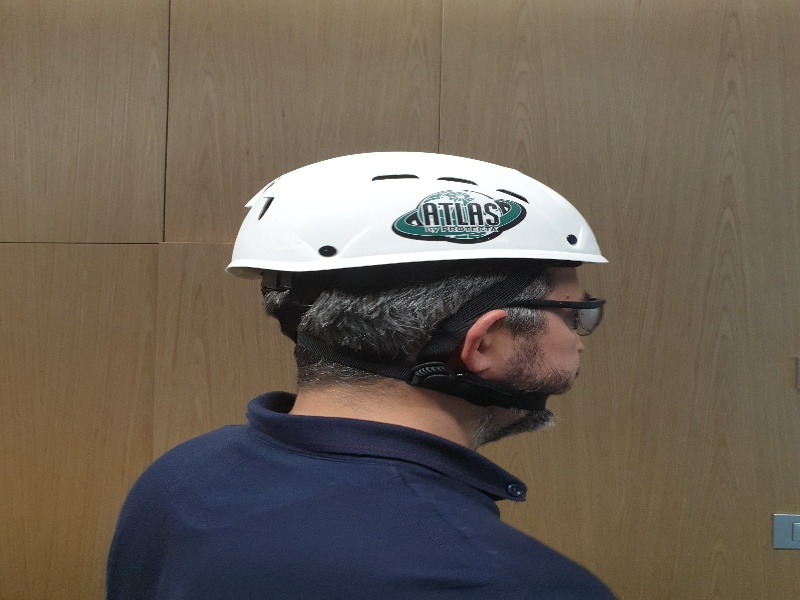Baret: (223, 152, 611, 270)
Gozluk: (515, 297, 612, 334)
